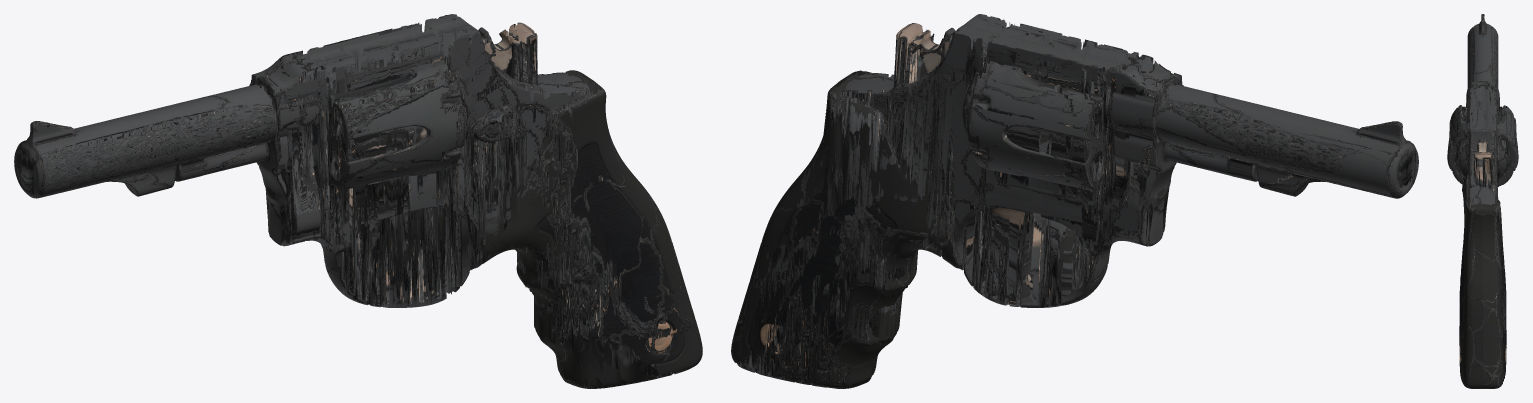
Rendered from revolver.glb.
3 renders of one model, left to right at view 1: azimuth 30°, elevation 25°; view 2: azimuth 150°, elevation 25°; view 3: azimuth 270°, elevation 25°, orthographic. The views are drawn at different scales.
Visible parts, largest first — view 1: node_0; view 2: node_0; view 3: node_0.
Part boxes in pixels (x1=…): node_0: x1=14, y1=14, x2=702, y2=388; node_0: x1=731, y1=14, x2=1418, y2=388; node_0: x1=1447, y1=14, x2=1518, y2=388.
Size of the model in its own units: 1.06 by 0.5969 by 0.1851.
1 material, 1 textured.
